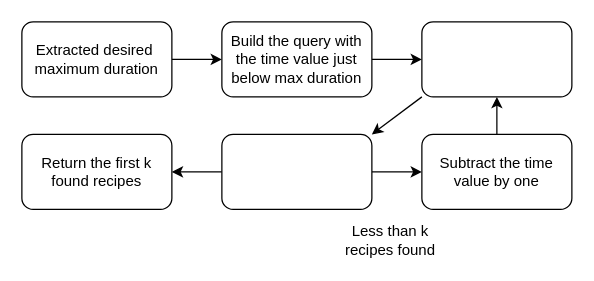
The diagram is 594 pixels wide and 281 high, and some of its shapes have lost their labels. The shapes that lost their labels are listed below. From the top down, each one's box as (x1, y1, x2, y2) in pixels, then its label:
(421, 21, 572, 97): Search for each recipe and find a matching duration
(221, 133, 372, 209): Retrieve the recipes that match the desired duration
